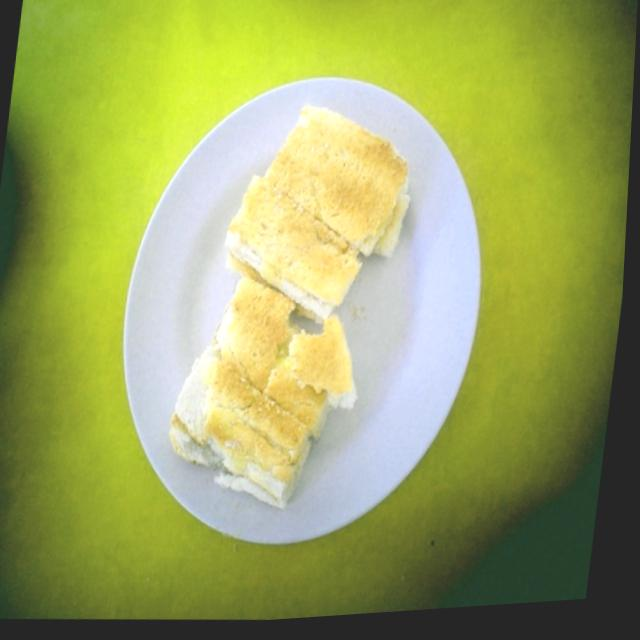面包点心: (35, 47, 511, 589)
